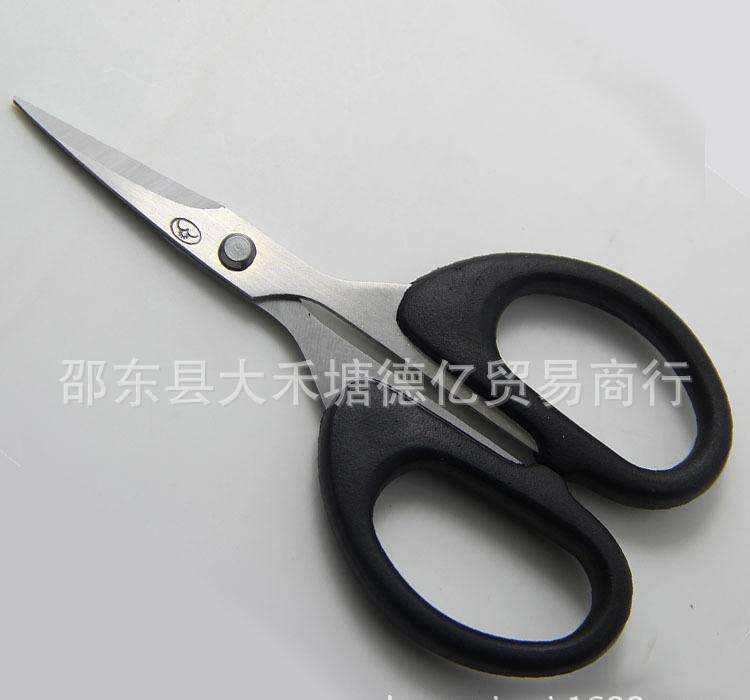scissor: (11, 96, 733, 680)
